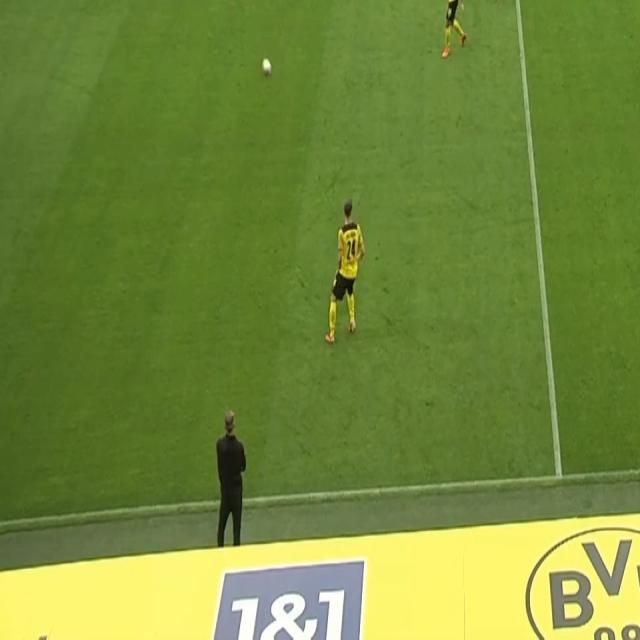ball: (261, 55, 273, 80)
